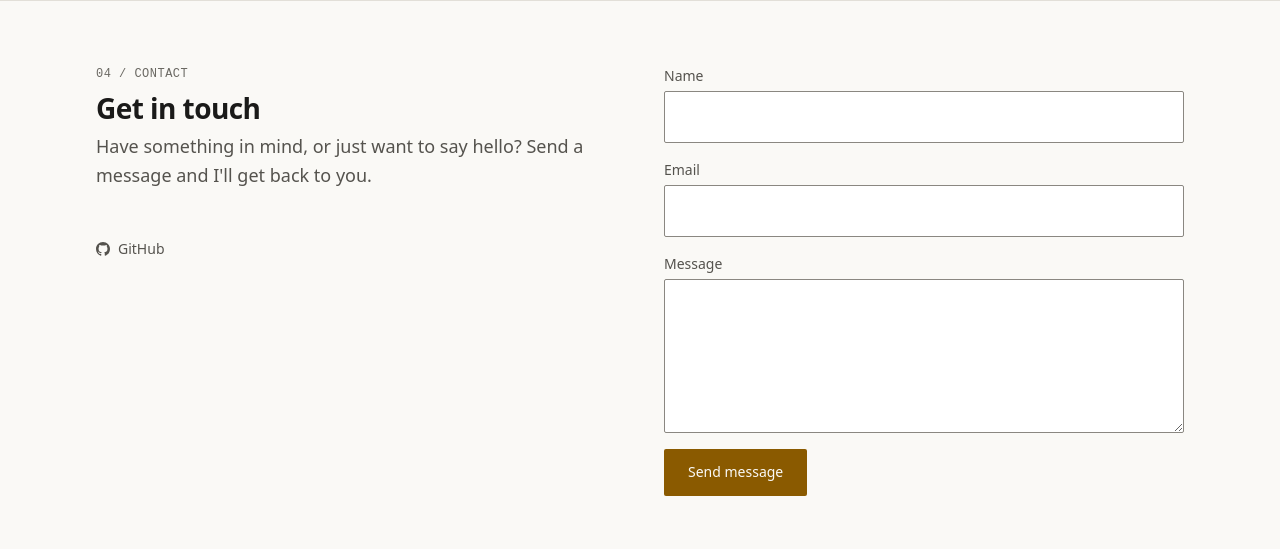
Test: Contact › opens a mailto link with the message when the form is valid
In the field labelled "Name": x=924, y=117 [664,91,1184,143], type "Ada"
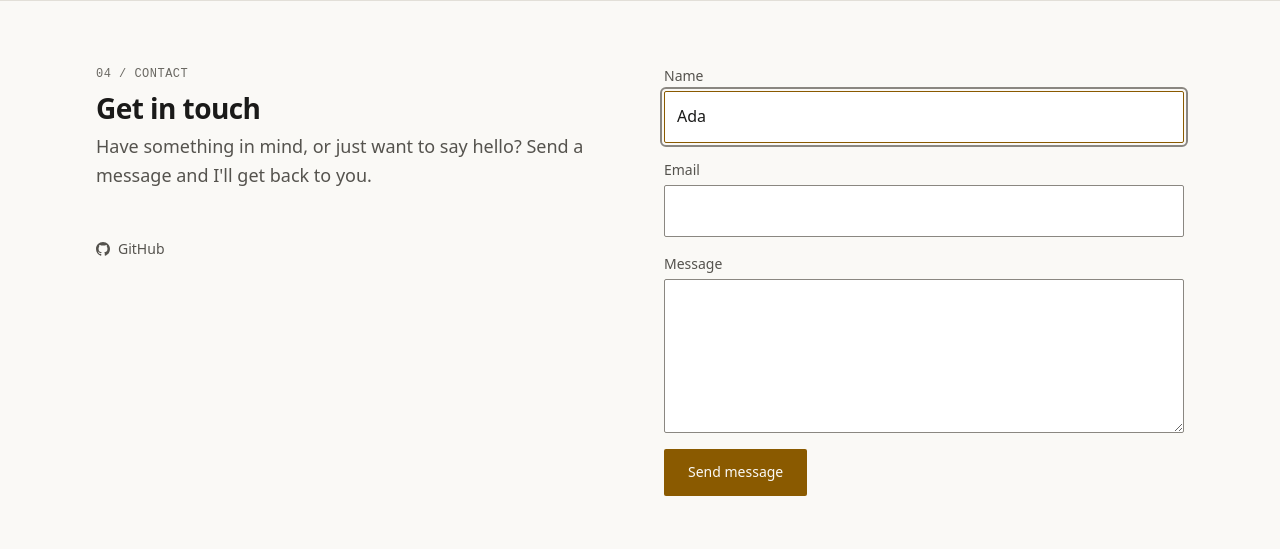
In the field labelled "Email": x=924, y=211 [664,185,1184,237], type "ada@example.com"
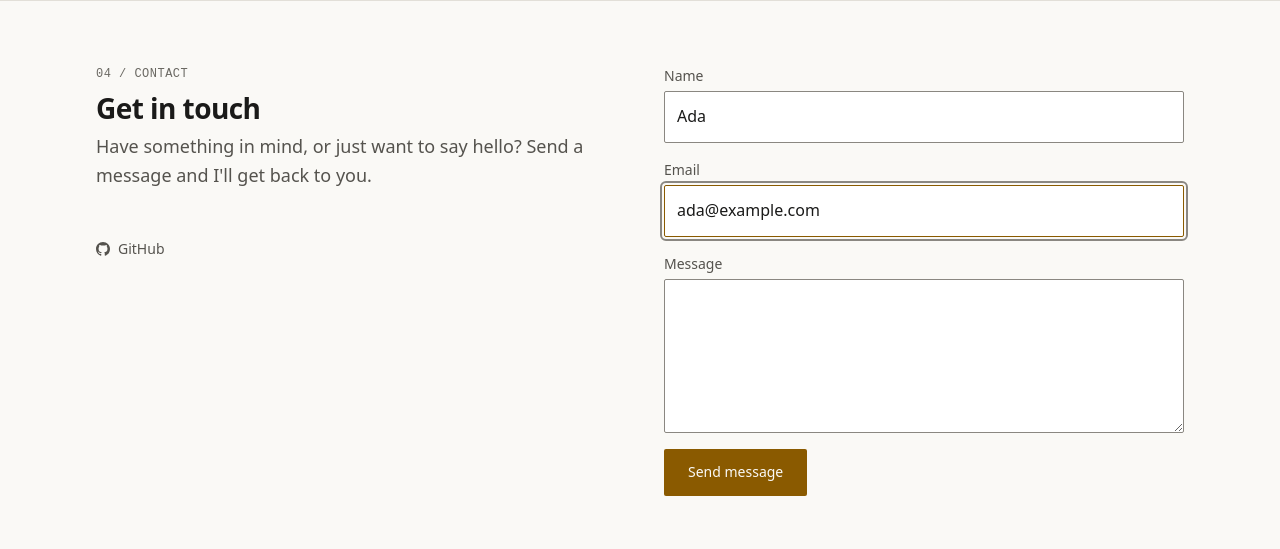
In the text box labelled "Message": x=924, y=356 [664,279,1184,433], type "Hello there, how are you?"
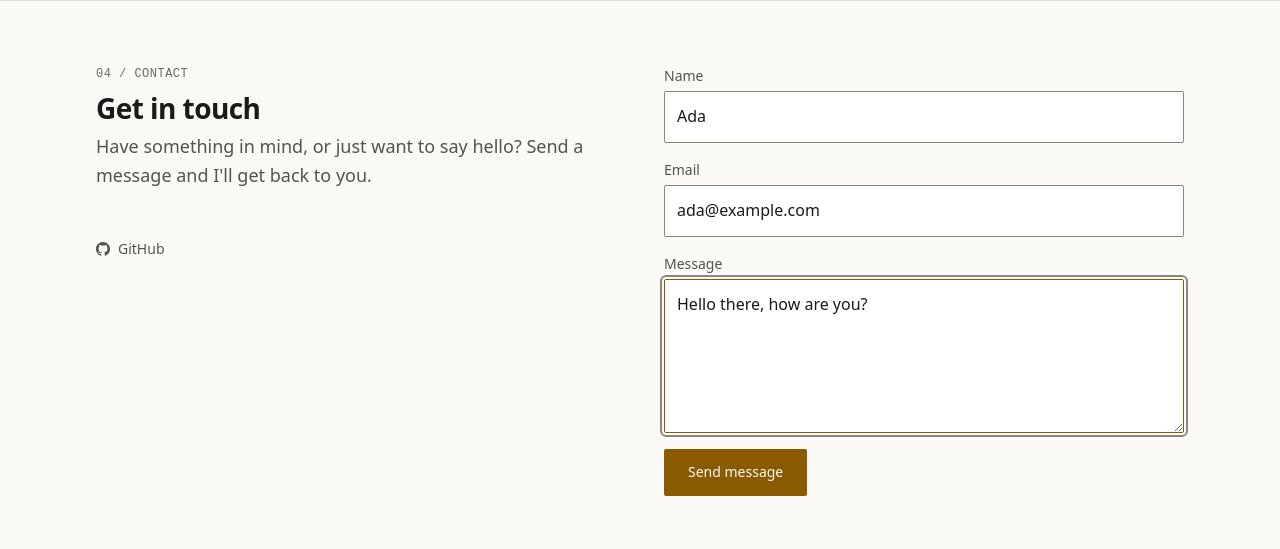
Click the button "Send message": x=736, y=472 [664,449,807,496]
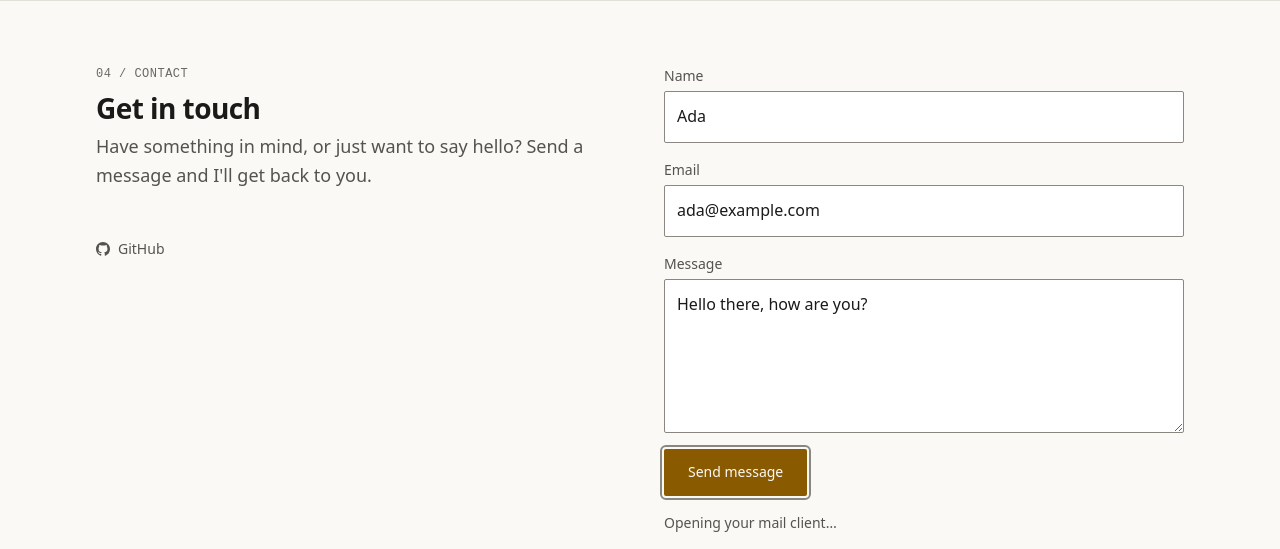
Result: the text "Opening your mail client…" is shown at [664,513,837,532]
